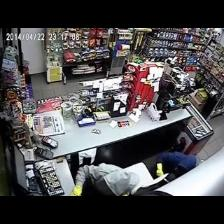person: (71, 164, 138, 195), (157, 152, 196, 177)
